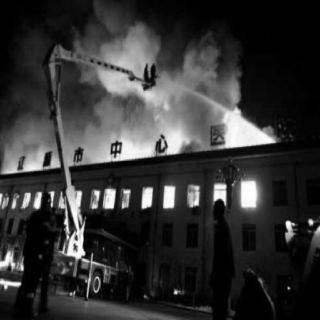Fire: (1, 44, 277, 152)
